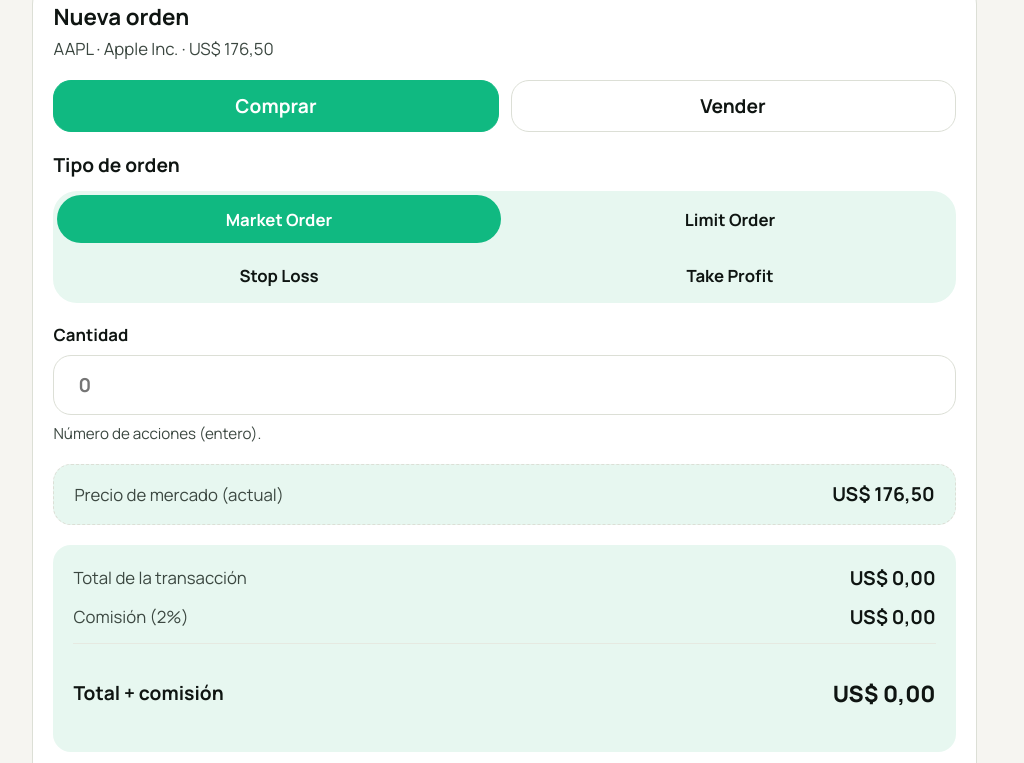
Test: pantalla Operar (SCRUM-61) › un 502 se reintenta con la misma Idempotency-Key y no duplica la orden
The width and height of the screenshot is (1024, 763).
(page scrolled)
Type "1" into the field labelled "Cantidad" at (505, 385), box [70,356,939,414]
(page scrolled)
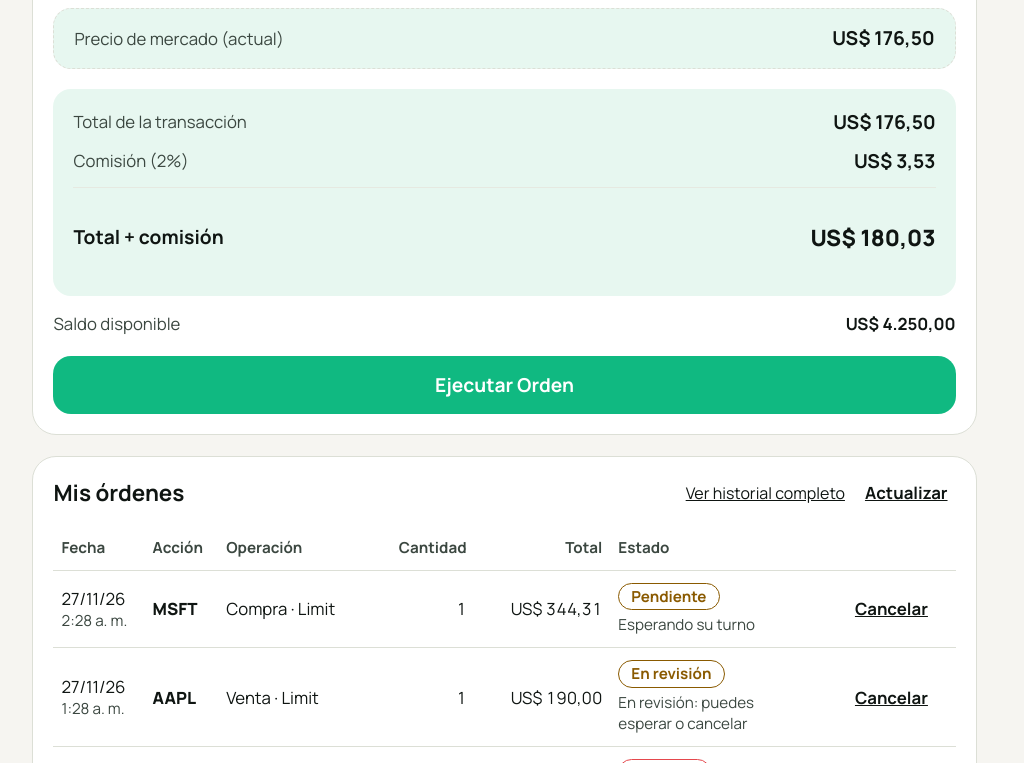
Click the button "Ejecutar Orden" at (505, 385), box [54,356,956,414]
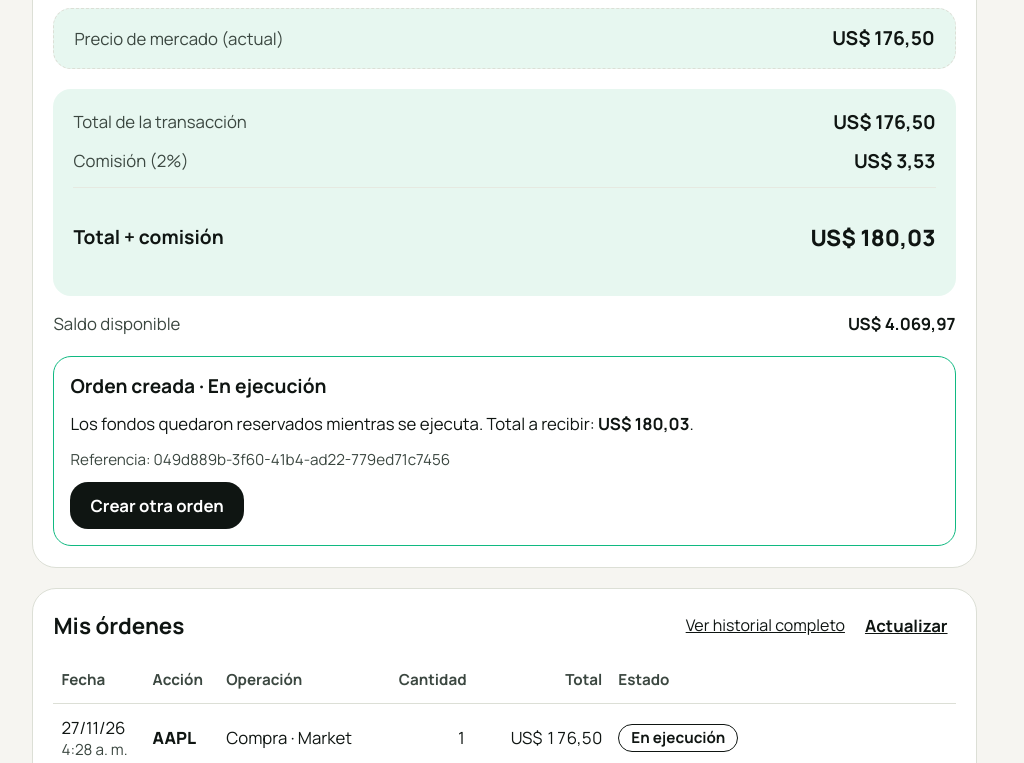
Check: the text "Orden creada · En ejecución" is shown, box [70,373,327,399]
